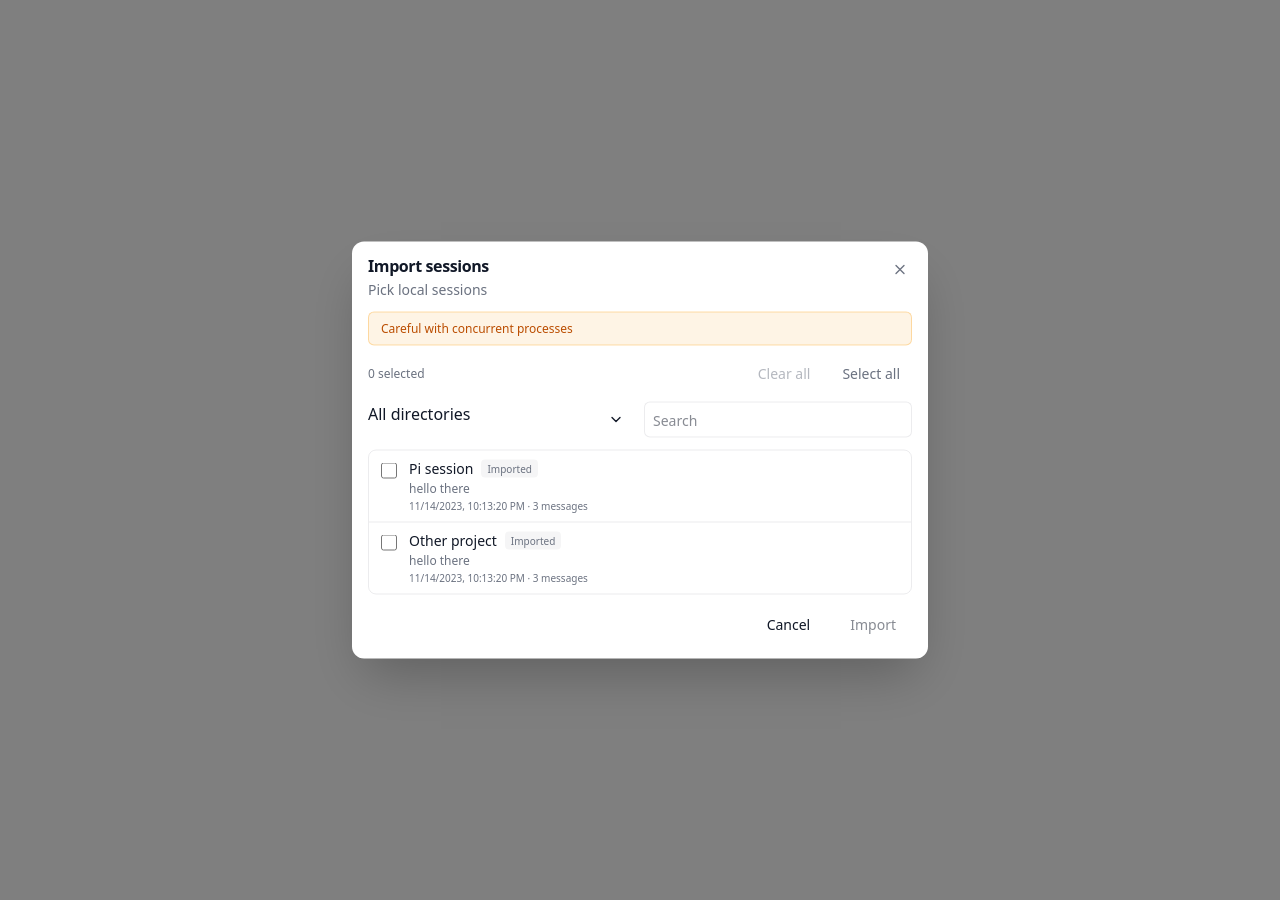
it: LocalSessionImportDialog › filters by directory and search text
Type "other project" into the search field with placeholder "Search". click: (778, 420)
box: [644, 402, 912, 438]
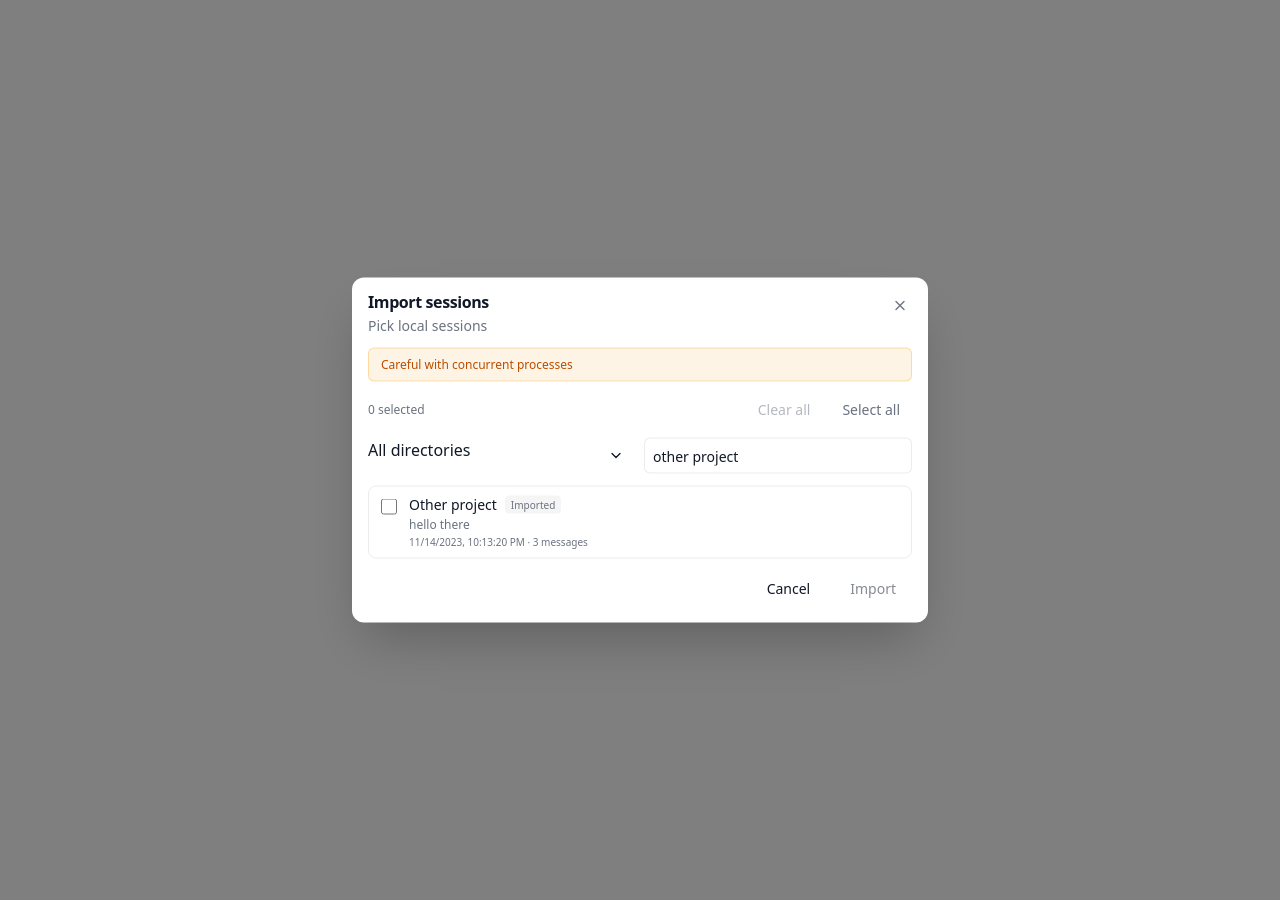
expect the text "Other project" is shown: met, box [409, 494, 497, 514]
expect the text "Pi session" is gone: met
